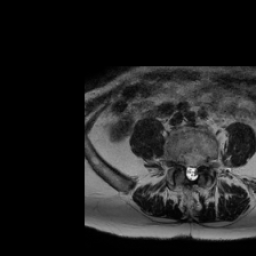CCS_normal: (189, 160, 194, 184)
LFS_severe_stenosis: (199, 159, 204, 172)
LLS_normal: (194, 161, 198, 182)
RFS_severe_stenosis: (178, 156, 185, 171)
RLS_normal: (185, 161, 190, 181)
